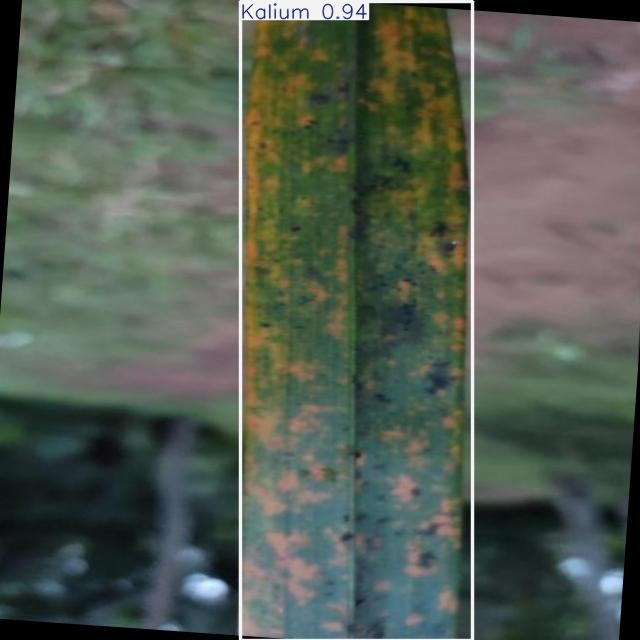Kalium: (241, 2, 473, 640)
